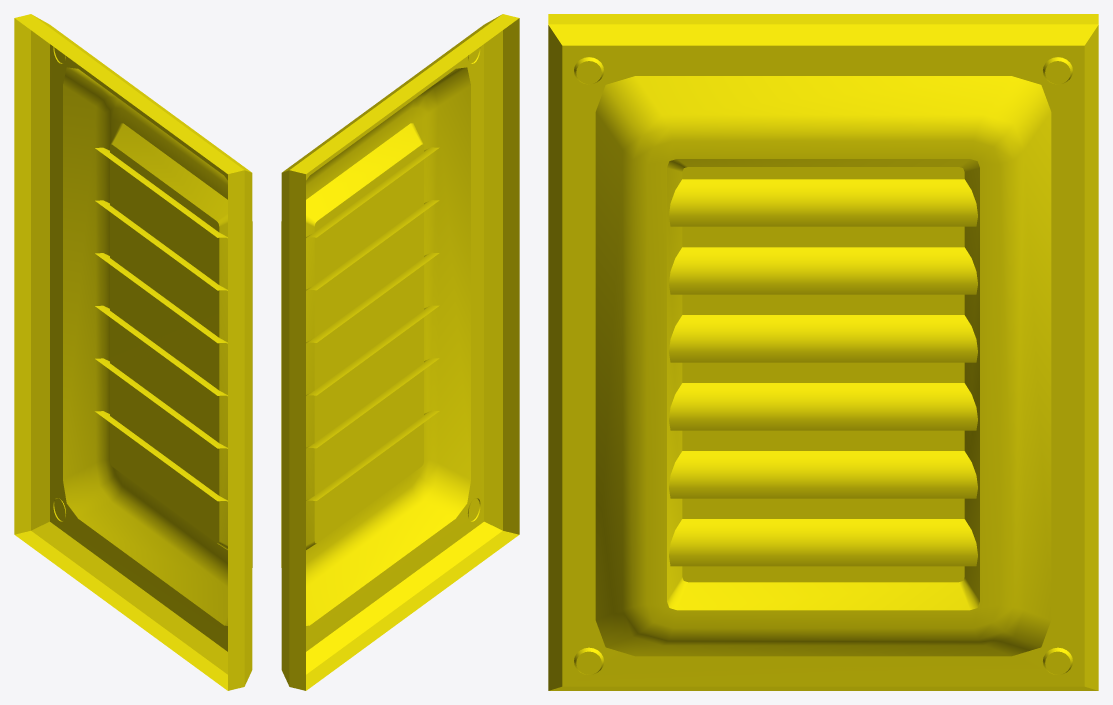
The model's file is Vent_01a_snaps016.fbx.
3 renders of one model, left to right at view 1: azimuth 30°, elevation 25°; view 2: azimuth 150°, elevation 25°; view 3: azimuth 270°, elevation 25°, orthographic. The views are drawn at different scales.
Visible parts, largest first — view 1: Vent_01a_snaps016_LOD0; view 2: Vent_01a_snaps016_LOD0; view 3: Vent_01a_snaps016_LOD0.
Boxes of the visible parts, x1,y1,x2,y2 form: Vent_01a_snaps016_LOD0: (14, 14, 252, 690); Vent_01a_snaps016_LOD0: (281, 14, 519, 690); Vent_01a_snaps016_LOD0: (548, 14, 1098, 690).
Size of what is drawn, in the model's own units: 0.2232 by 1.86 by 1.39.
